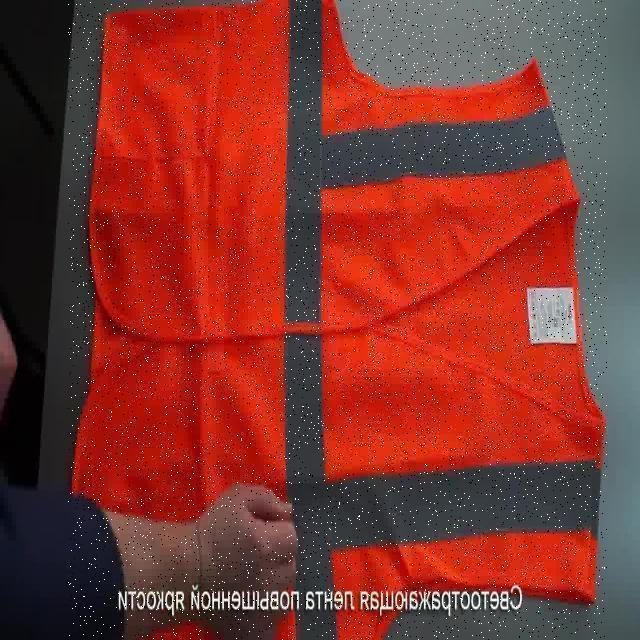safety_vest: (68, 0, 607, 640)
